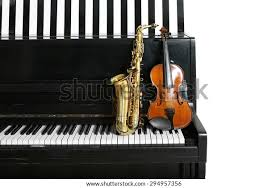Piano: (1, 71, 222, 176)
Saxophone: (103, 10, 162, 147)
Violin: (142, 21, 208, 148)
